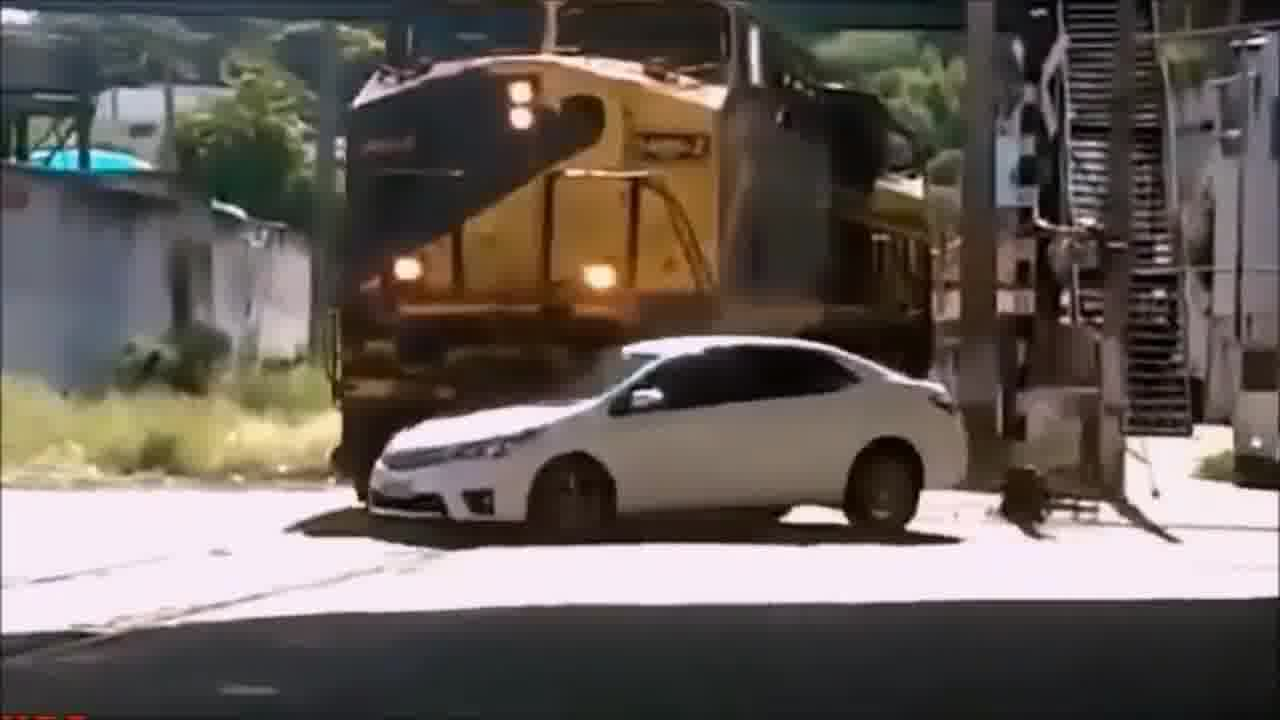crossing railway track: (349, 325, 992, 571)
